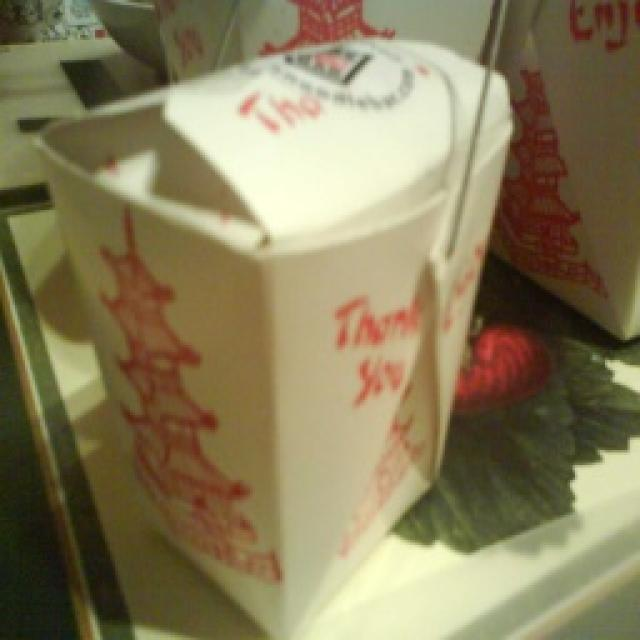box: (61, 70, 497, 590)
